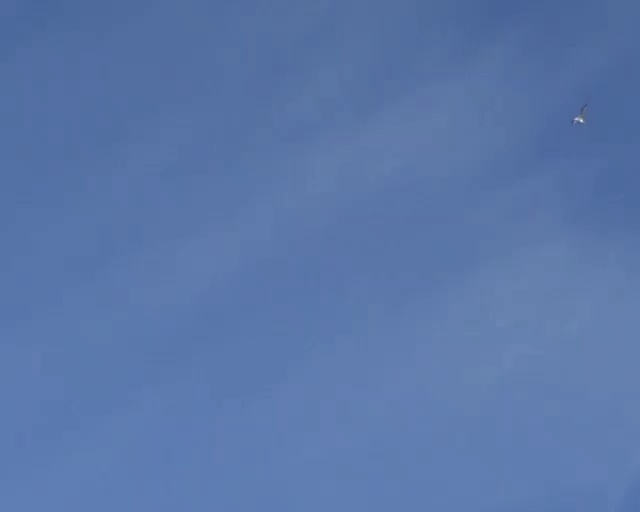BIRD: (572, 103, 588, 125)
